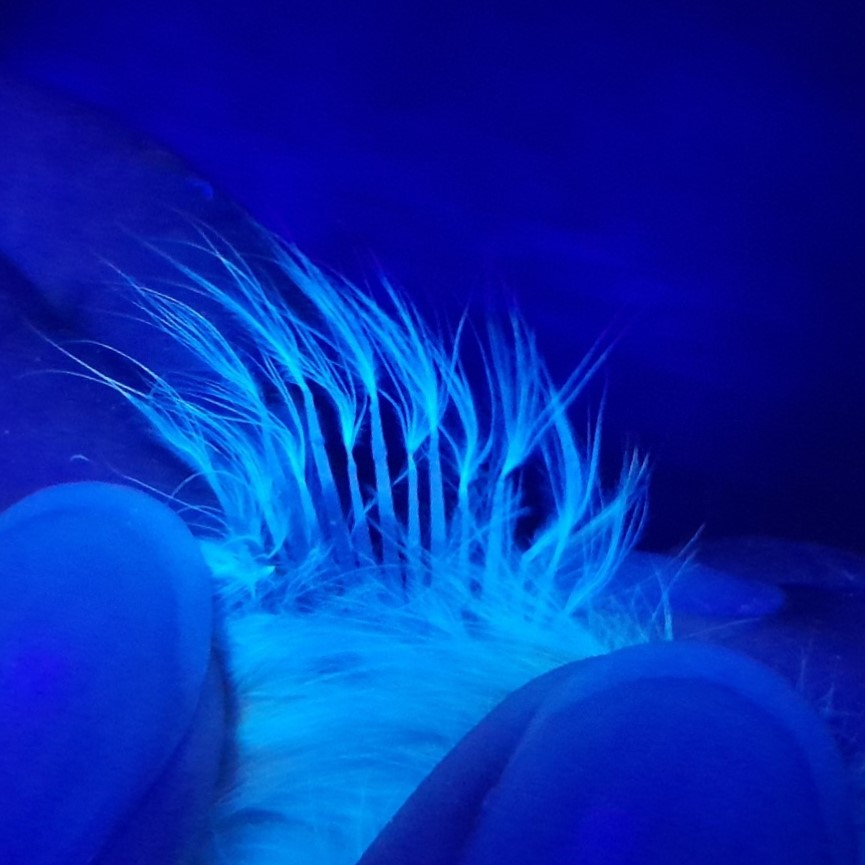male: (183, 368, 605, 673)
